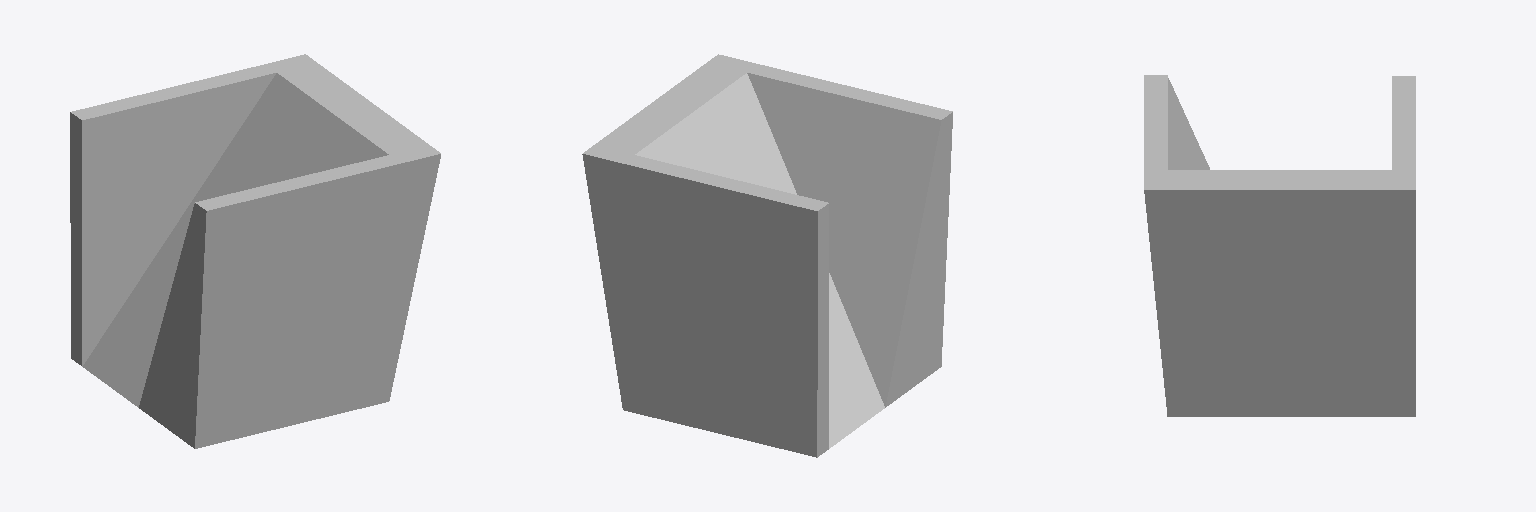
File: gutter_cornerR.obj
3 renders of one model, left to right at view 1: azimuth 30°, elevation 25°; view 2: azimuth 150°, elevation 25°; view 3: azimuth 270°, elevation 25°, orthographic.
Parts seen in each view (by area): view 1: Box002; view 2: Box002; view 3: Box002.
Part boxes in pixels (left/top/right/bottom): Box002: left=70, top=54, right=440, bottom=448; Box002: left=582, top=54, right=952, bottom=457; Box002: left=1144, top=75, right=1415, bottom=416.
Bounding box in the file's own units: 12.79 × 12.81 × 12.79.